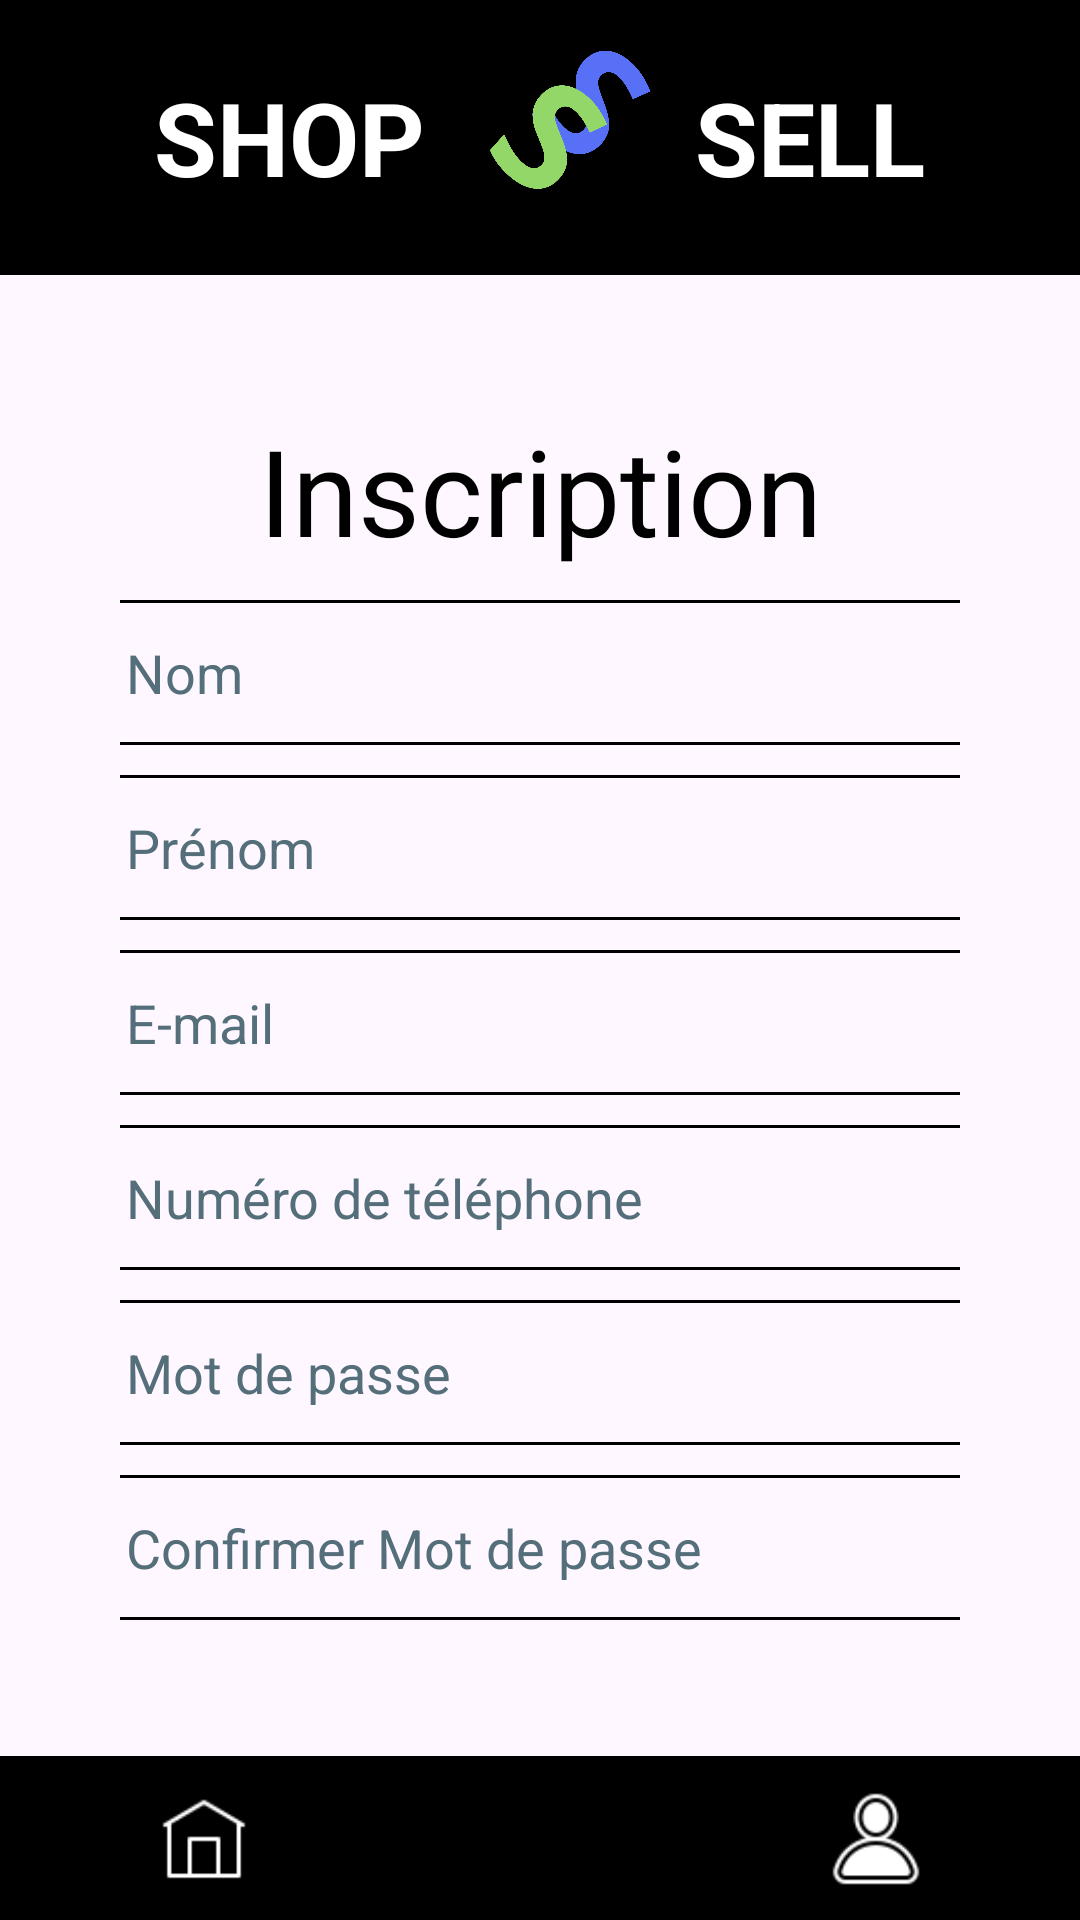

Named icons in this screenshot (1080 x 1920) and their bounding boxes, (x1, y1, x2, y2):
home: (162, 1799, 246, 1879)
